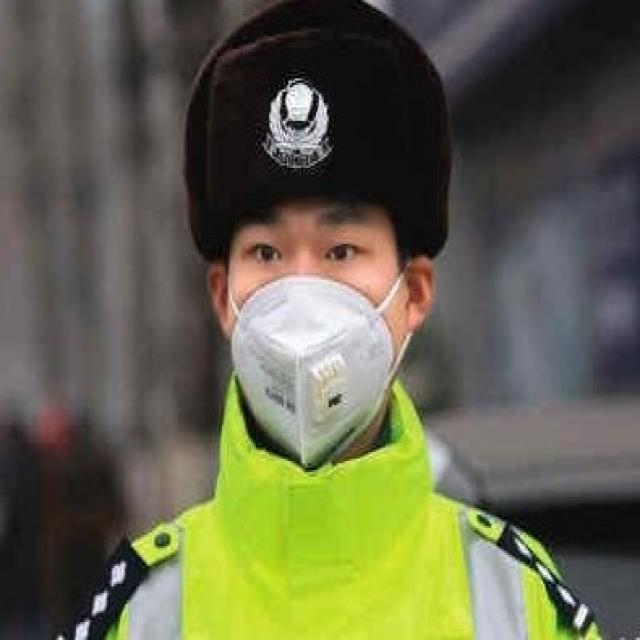mask: (224, 183, 401, 461)
